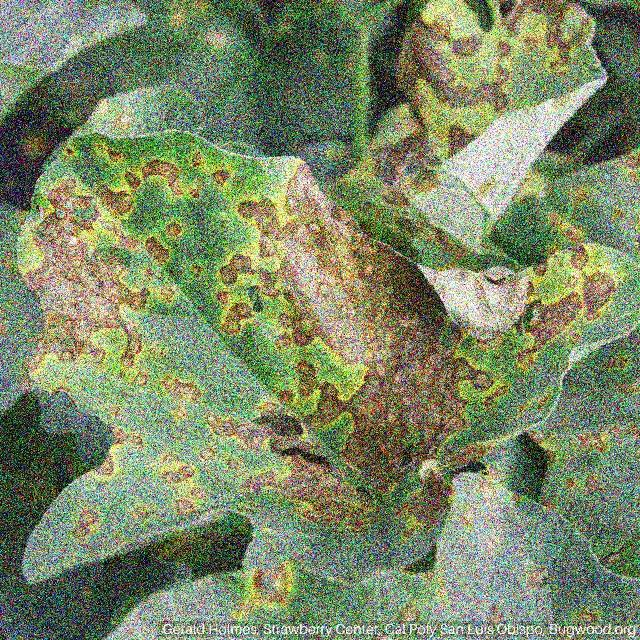leaf_spot: (63, 75, 594, 584)
